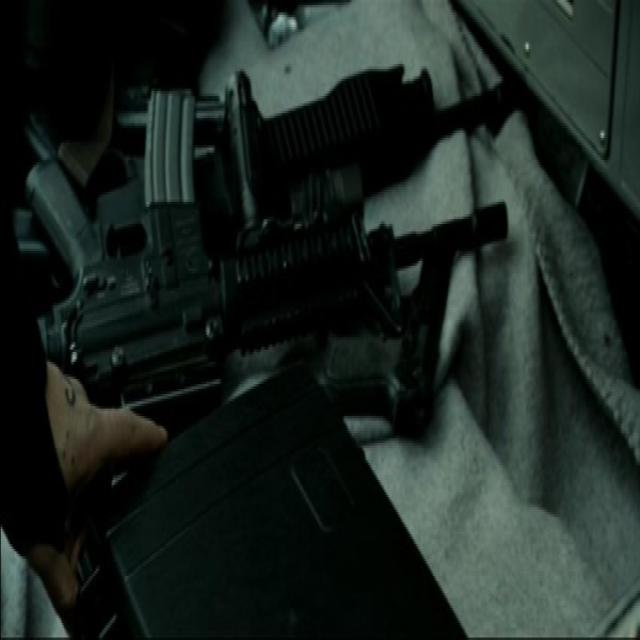rifle: (35, 40, 513, 416)
